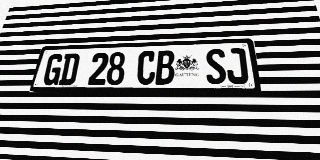2: (88, 52, 109, 85)
8: (105, 52, 127, 85)
B: (155, 50, 175, 85)
C: (136, 51, 156, 85)
D: (58, 53, 81, 85)
G: (42, 54, 65, 85)
J: (225, 48, 249, 84)
S: (205, 49, 227, 84)
